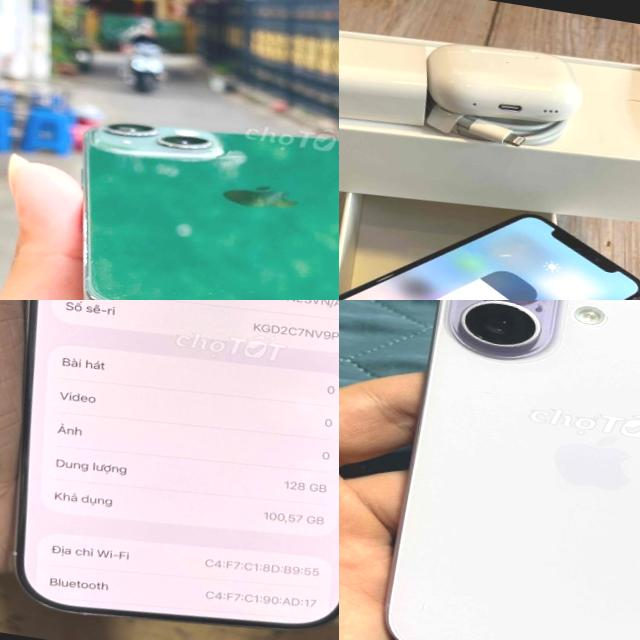gen_12_13: (53, 96, 339, 300)
gen_16: (14, 300, 339, 629)
gen_17: (367, 300, 640, 640)
gen_x_xs: (339, 173, 640, 300)
scratch: (63, 203, 165, 300)
